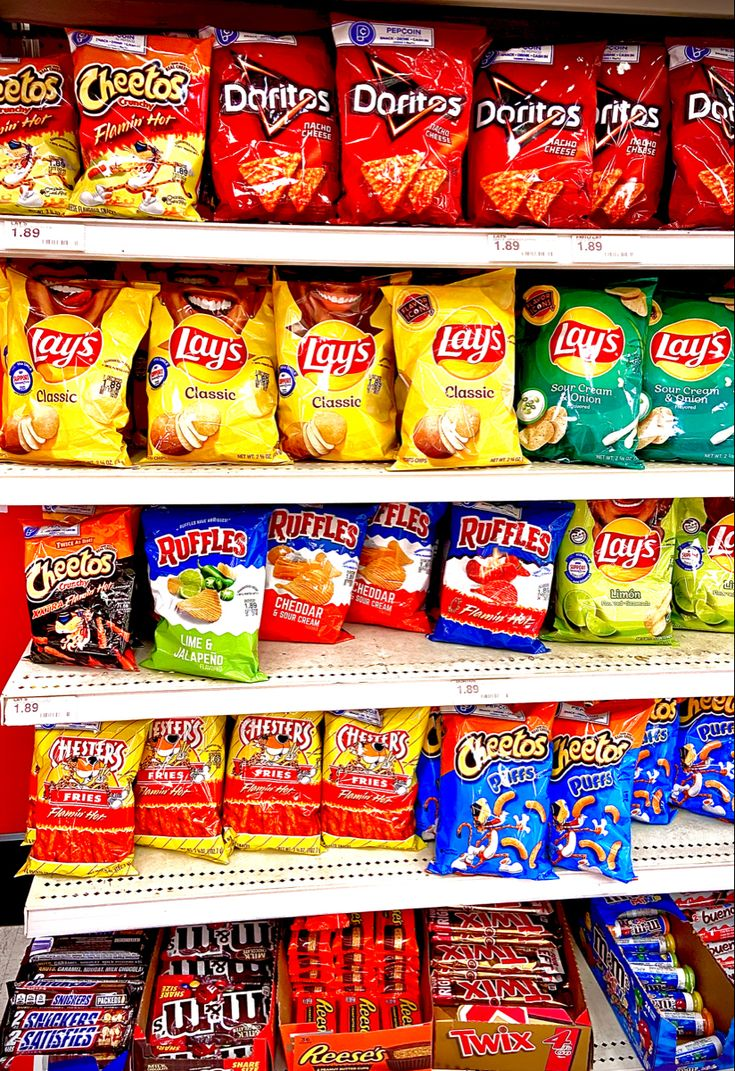Cheetos: (431, 700, 558, 835)
Doritos: (332, 55, 482, 157)
Lays: (387, 277, 522, 406)
Ruffles: (140, 501, 265, 650)
